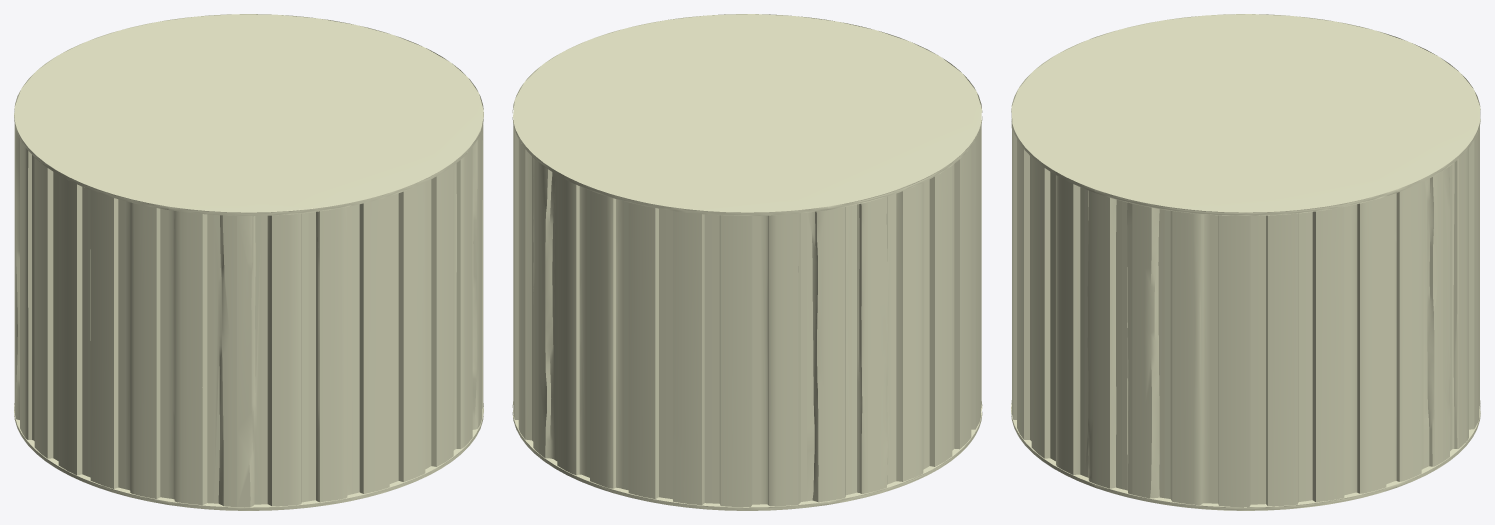
Rendered from NFG-I0025.glb.
3 views of the same model, side by side, from view 1: azimuth 30°, elevation 25°; view 2: azimuth 150°, elevation 25°; view 3: azimuth 270°, elevation 25° (orthographic).
Visible parts, largest first — view 1: Retopo_Coffee table Nembus; view 2: Retopo_Coffee table Nembus; view 3: Retopo_Coffee table Nembus.
Boxes of the visible parts, box(x1,y1,x2,y2) form: Retopo_Coffee table Nembus: box(14, 14, 483, 510); Retopo_Coffee table Nembus: box(512, 14, 982, 510); Retopo_Coffee table Nembus: box(1011, 14, 1480, 510).
Size of the model in its own units: 2 by 1.4 by 2.
